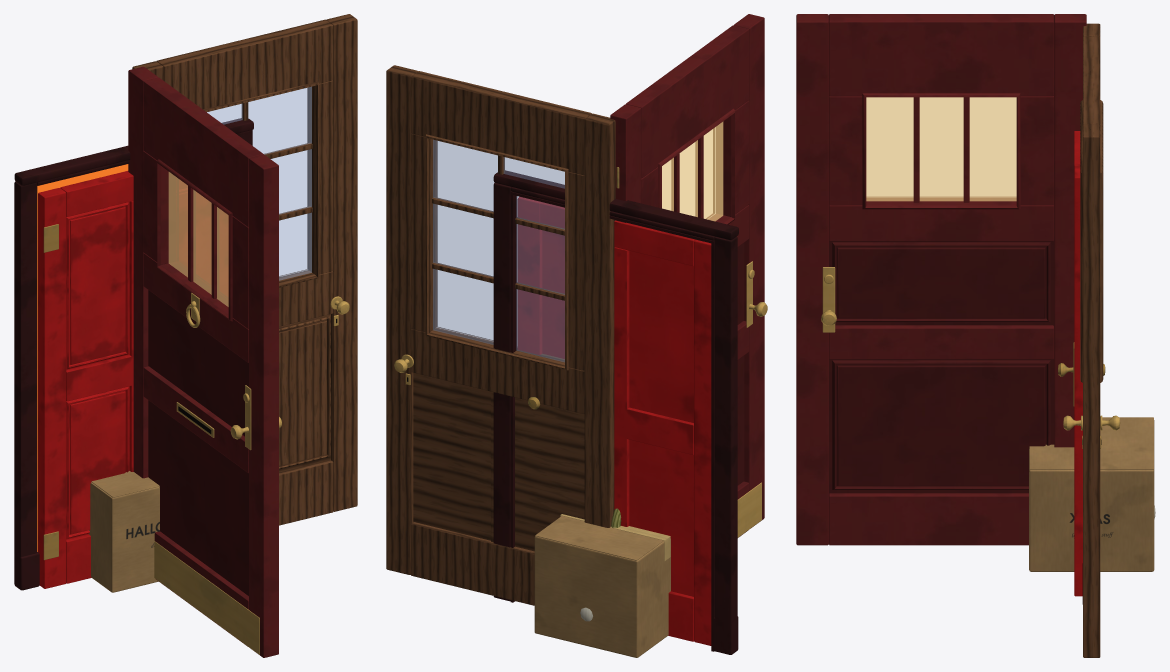
The model's file is props_common.glb.
3 renders of one model, left to right at view 1: azimuth 30°, elevation 25°; view 2: azimuth 150°, elevation 25°; view 3: azimuth 270°, elevation 25°, orthographic. The views are drawn at different scales.
Visible parts, largest first — view 1: FrontDoor, DoorLeaf, RedDoorLeaf, RedDoor, CardboardBox; view 2: DoorLeaf, RedDoorLeaf, FrontDoor, RedDoor, CardboardBox; view 3: FrontDoor, CardboardBox, DoorLeaf, RedDoorLeaf.
Part boxes in pixels (x1,y1,x2,y2): FrontDoor: [128, 66, 281, 657]; DoorLeaf: [132, 14, 357, 525]; RedDoorLeaf: [38, 171, 228, 588]; RedDoor: [14, 118, 253, 590]; CardboardBox: [89, 471, 159, 592]; DoorLeaf: [386, 65, 619, 605]; RedDoorLeaf: [517, 197, 711, 645]; FrontDoor: [610, 14, 767, 537]; RedDoor: [493, 170, 738, 654]; CardboardBox: [534, 514, 670, 657]; FrontDoor: [796, 14, 1086, 545]; CardboardBox: [1029, 417, 1154, 571]; DoorLeaf: [1063, 23, 1120, 657]; RedDoorLeaf: [1058, 131, 1105, 596].
Size of the model in its own units: 1.66 by 2.33 by 1.44.
Materials: 33 (24 with a texture image).
